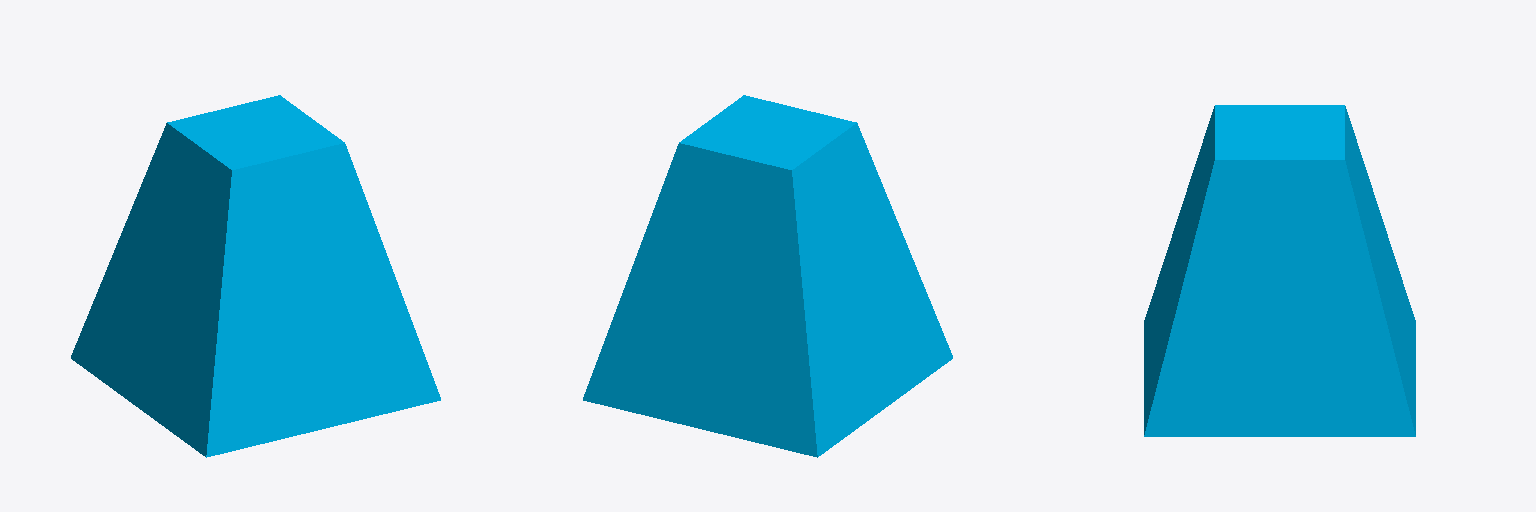
3 views of the same model, side by side, from view 1: azimuth 30°, elevation 25°; view 2: azimuth 150°, elevation 25°; view 3: azimuth 270°, elevation 25° (orthographic).
Parts seen in each view (by area): view 1: 立方体.001; view 2: 立方体.001; view 3: 立方体.001.
Part boxes in pixels (left/top/right/bottom): 立方体.001: left=71, top=95, right=440, bottom=457; 立方体.001: left=583, top=95, right=952, bottom=457; 立方体.001: left=1144, top=105, right=1415, bottom=436.
Bounding box in the file's own units: 2 × 2 × 2.
1 materials, 1 textured.